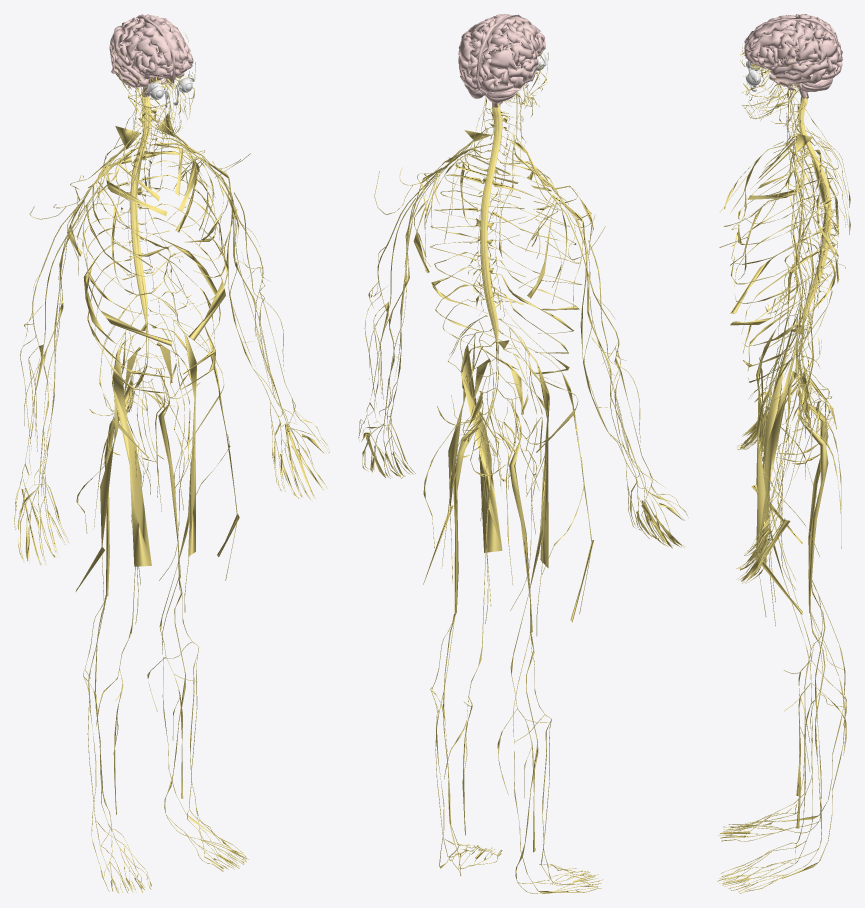
The model's file is nervous.glb.
3 views of the same model, side by side, from view 1: azimuth 30°, elevation 25°; view 2: azimuth 150°, elevation 25°; view 3: azimuth 270°, elevation 25° (orthographic). The views are drawn at different scales.
Visible parts, largest first — view 1: NRV.intercostal_nerves.R, NRV.intercostal_nerves.L, NRV.femoral_nerve.R, NRV.spinal_dura.C, NRV.femoral_nerve.L, NRV.lateral_femoral_cutaneous_nerve.R, NRV.sciatic_nerve.L, NRV.saphenous_nerve.L, NRV.sciatic_nerve.R, NRV.lateral_femoral_cutaneous_nerve.L; view 2: NRV.femoral_nerve.L, NRV.spinal_dura.C, NRV.intercostal_nerves.L, NRV.intercostal_nerves.R, NRV.femoral_nerve.R, NRV.lateral_femoral_cutaneous_nerve.L, NRV.sciatic_nerve.L, NRV.sciatic_nerve.R, NRV.saphenous_nerve.R, NRV.saphenous_nerve.L, NRV.lateral_femoral_cutaneous_nerve.R; view 3: NRV.intercostal_nerves.L, NRV.intercostal_nerves.R, NRV.spinal_dura.C, NRV.femoral_nerve.L, NRV.lateral_femoral_cutaneous_nerve.L, NRV.sciatic_nerve.L, NRV.lateral_femoral_cutaneous_nerve.R, NRV.femoral_nerve.R, NRV.saphenous_nerve.L, NRV.sciatic_nerve.R, NRV.saphenous_nerve.R, NRV.middle_frontal_gyrus.L (+22 smaller).
Part boxes in pixels (x1,y1,x2,y2): NRV.intercostal_nerves.R: (82,148,174,393); NRV.intercostal_nerves.L: (141,143,228,389); NRV.femoral_nerve.R: (112,314,151,566); NRV.spinal_dura.C: (130,95,151,333); NRV.femoral_nerve.L: (152,311,197,556); NRV.lateral_femoral_cutaneous_nerve.R: (75,331,125,609); NRV.sciatic_nerve.L: (145,369,180,578); NRV.saphenous_nerve.L: (147,437,194,798); NRV.sciatic_nerve.R: (104,375,132,596); NRV.lateral_femoral_cutaneous_nerve.L: (174,320,239,580); NRV.femoral_nerve.L: (460,331,502,552); NRV.spinal_dura.C: (476,103,501,350); NRV.intercostal_nerves.L: (430,153,526,369); NRV.intercostal_nerves.R: (491,162,581,374); NRV.femoral_nerve.R: (503,334,549,568); NRV.lateral_femoral_cutaneous_nerve.L: (423,333,474,584); NRV.sciatic_nerve.L: (453,392,482,613); NRV.sciatic_nerve.R: (495,400,532,632); NRV.saphenous_nerve.R: (497,465,544,852); NRV.saphenous_nerve.L: (444,439,491,835); NRV.lateral_femoral_cutaneous_nerve.R: (527,347,594,622); NRV.intercostal_nerves.L: (730,153,838,382); NRV.intercostal_nerves.R: (730,139,838,371); NRV.spinal_dura.C: (798,96,831,326); NRV.femoral_nerve.L: (758,319,804,563); NRV.lateral_femoral_cutaneous_nerve.L: (751,340,819,617); NRV.sciatic_nerve.L: (797,383,828,613); NRV.lateral_femoral_cutaneous_nerve.R: (751,314,819,543); NRV.femoral_nerve.R: (756,313,802,540); NRV.saphenous_nerve.L: (764,448,846,828); NRV.sciatic_nerve.R: (797,374,828,565); NRV.saphenous_nerve.R: (764,420,846,796); NRV.middle_frontal_gyrus.L: (747,29,795,62).
Size of the model in its own units: 0.6675 by 1.69 by 0.2436.
